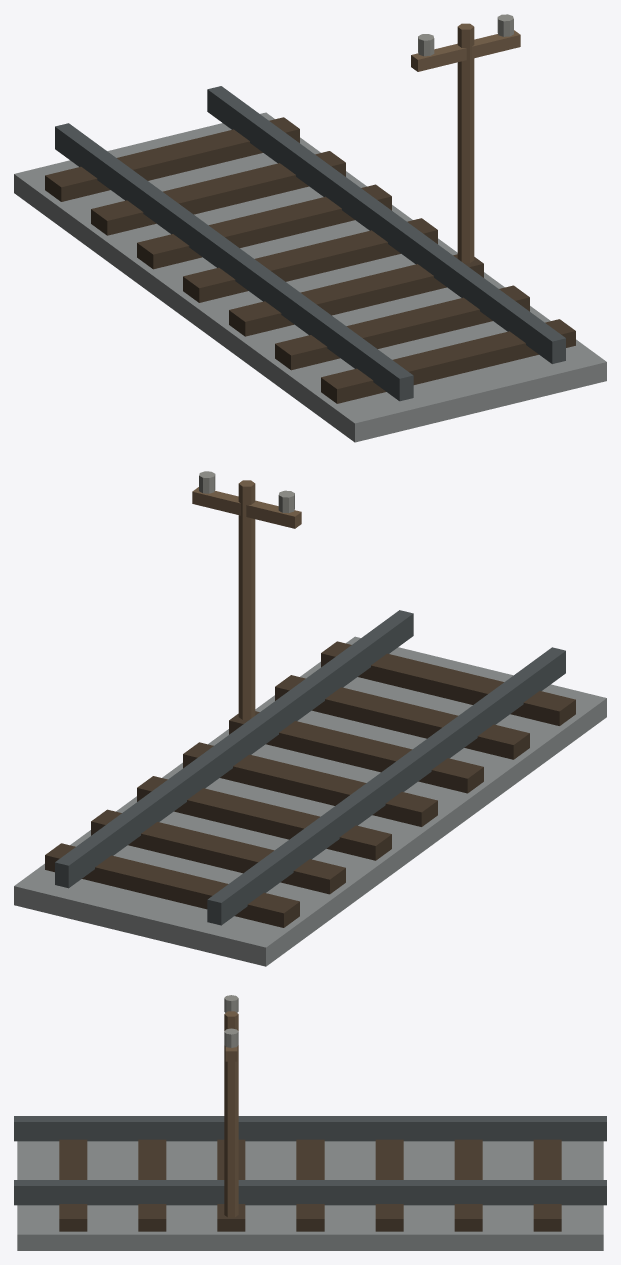
The model's file is railway-segment.glb.
The picture shows the model from 3 angles, top to bottom: view 1: azimuth 30°, elevation 25°; view 2: azimuth 150°, elevation 25°; view 3: azimuth 270°, elevation 25°; orthographic projection. The views are drawn at different scales.
Visible parts, largest first — view 1: TH_RailSegment_Ballast, TH_RailSegment_Rail_-0.23, TH_RailSegment_Rail_+0.23, TH_RailSegment_Sleeper_0, TH_RailSegment_Sleeper_5, TH_RailSegment_Sleeper_6, TH_RailSegment_Sleeper_4, TH_RailSegment_Sleeper_1, TH_RailSegment_Sleeper_3, TH_RailSegment_Sleeper_2, TH_RailSegment_TelegraphPole, TH_RailSegment_Crossbar; view 2: TH_RailSegment_Ballast, TH_RailSegment_Rail_-0.23, TH_RailSegment_Rail_+0.23, TH_RailSegment_Sleeper_6, TH_RailSegment_Sleeper_5, TH_RailSegment_Sleeper_3, TH_RailSegment_Sleeper_1, TH_RailSegment_Sleeper_4, TH_RailSegment_Sleeper_0, TH_RailSegment_Sleeper_2, TH_RailSegment_TelegraphPole, TH_RailSegment_Crossbar; view 3: TH_RailSegment_Ballast, TH_RailSegment_Rail_+0.23, TH_RailSegment_Rail_-0.23, TH_RailSegment_TelegraphPole, TH_RailSegment_Sleeper_3, TH_RailSegment_Sleeper_0, TH_RailSegment_Sleeper_1, TH_RailSegment_Sleeper_4, TH_RailSegment_Sleeper_5, TH_RailSegment_Sleeper_6, TH_RailSegment_Sleeper_2.
Part boxes in pixels (box(x1,y1,x2,y2)): TH_RailSegment_Ballast: box(14, 112, 606, 442); TH_RailSegment_Rail_-0.23: box(55, 123, 413, 401); TH_RailSegment_Rail_+0.23: box(207, 86, 565, 363); TH_RailSegment_Sleeper_0: box(321, 319, 575, 403); TH_RailSegment_Sleeper_5: box(91, 151, 345, 235); TH_RailSegment_Sleeper_6: box(45, 117, 299, 201); TH_RailSegment_Sleeper_4: box(137, 184, 391, 269); TH_RailSegment_Sleeper_1: box(275, 285, 529, 370); TH_RailSegment_Sleeper_3: box(183, 218, 437, 302); TH_RailSegment_Sleeper_2: box(229, 254, 483, 336); TH_RailSegment_TelegraphPole: box(457, 23, 474, 263); TH_RailSegment_Crossbar: box(411, 30, 520, 71); TH_RailSegment_Ballast: box(14, 636, 606, 966); TH_RailSegment_Rail_-0.23: box(207, 647, 565, 925); TH_RailSegment_Rail_+0.23: box(55, 610, 413, 888); TH_RailSegment_Sleeper_6: box(45, 843, 299, 927); TH_RailSegment_Sleeper_5: box(91, 809, 345, 894); TH_RailSegment_Sleeper_3: box(183, 742, 437, 826); TH_RailSegment_Sleeper_1: box(275, 675, 529, 759); TH_RailSegment_Sleeper_4: box(137, 776, 391, 860); TH_RailSegment_Sleeper_0: box(321, 641, 575, 725); TH_RailSegment_Sleeper_2: box(229, 711, 483, 793); TH_RailSegment_TelegraphPole: box(238, 480, 255, 719); TH_RailSegment_Crossbar: box(192, 487, 301, 528); TH_RailSegment_Ballast: box(17, 1141, 603, 1250); TH_RailSegment_Rail_+0.23: box(14, 1180, 606, 1205); TH_RailSegment_Rail_-0.23: box(14, 1116, 606, 1141); TH_RailSegment_TelegraphPole: box(224, 1011, 238, 1217); TH_RailSegment_Sleeper_3: box(296, 1139, 324, 1231); TH_RailSegment_Sleeper_0: box(59, 1139, 87, 1231); TH_RailSegment_Sleeper_1: box(138, 1139, 166, 1231); TH_RailSegment_Sleeper_4: box(375, 1139, 403, 1231); TH_RailSegment_Sleeper_5: box(454, 1139, 482, 1231); TH_RailSegment_Sleeper_6: box(533, 1139, 561, 1231); TH_RailSegment_Sleeper_2: box(217, 1139, 245, 1231).
Size of the model in its own units: 0.865 by 0.77 by 1.8.
